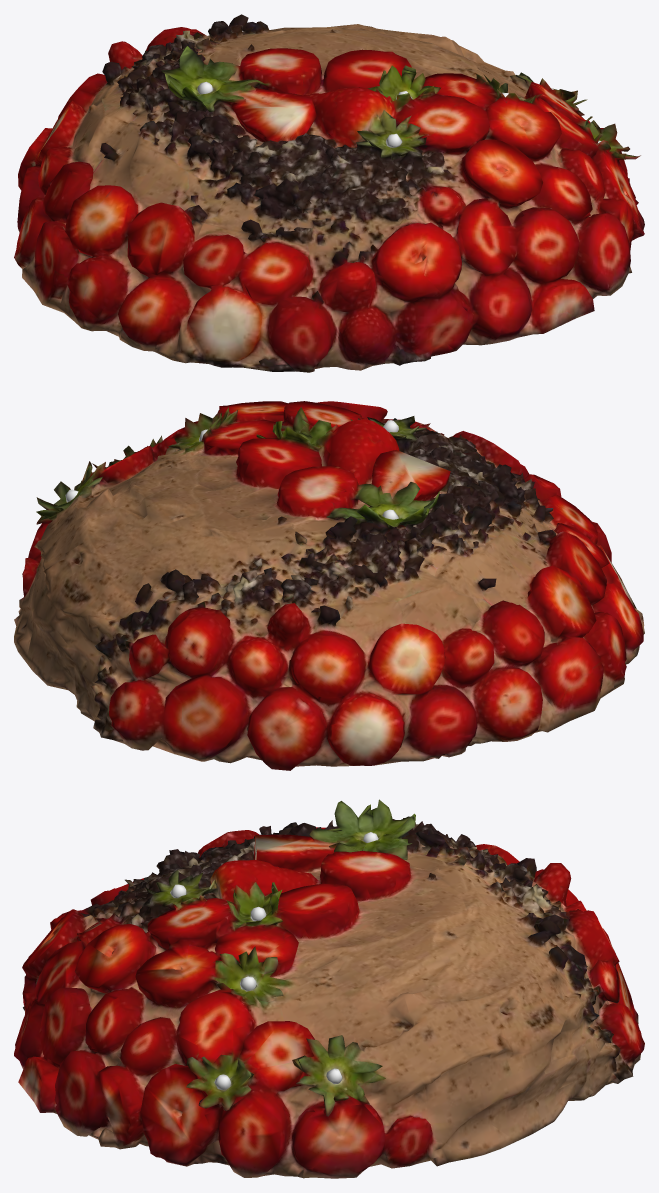
Rendered from strawberry_chocolate_cake.glb.
3 renders of one model, top to bottom at view 1: azimuth 30°, elevation 25°; view 2: azimuth 150°, elevation 25°; view 3: azimuth 270°, elevation 25°, orthographic. The views are drawn at different scales.
Visible parts, largest first — view 1: strawberry_chocolate_cake; view 2: strawberry_chocolate_cake; view 3: strawberry_chocolate_cake.
Part boxes in pixels (<box>): strawberry_chocolate_cake: <box>14,14,644,372</box>; strawberry_chocolate_cake: <box>14,401,644,770</box>; strawberry_chocolate_cake: <box>14,799,644,1178</box>.
Size of the model in its own units: 0.2443 by 0.0792 by 0.2403.
1 material, 1 textured.
